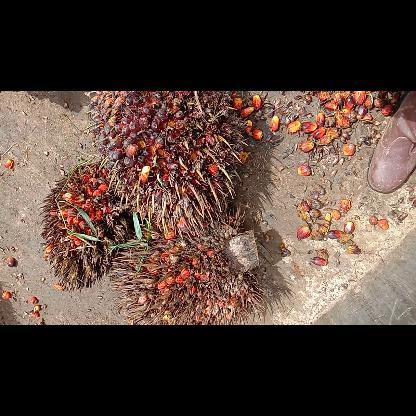TBS masak: (86, 90, 252, 238)
Terlalu masak: (108, 210, 262, 324), (36, 162, 132, 291)
